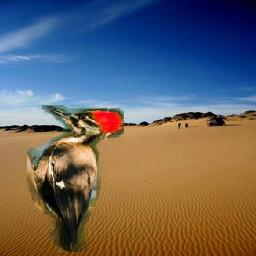Woodpecker: (24, 106, 125, 253)
